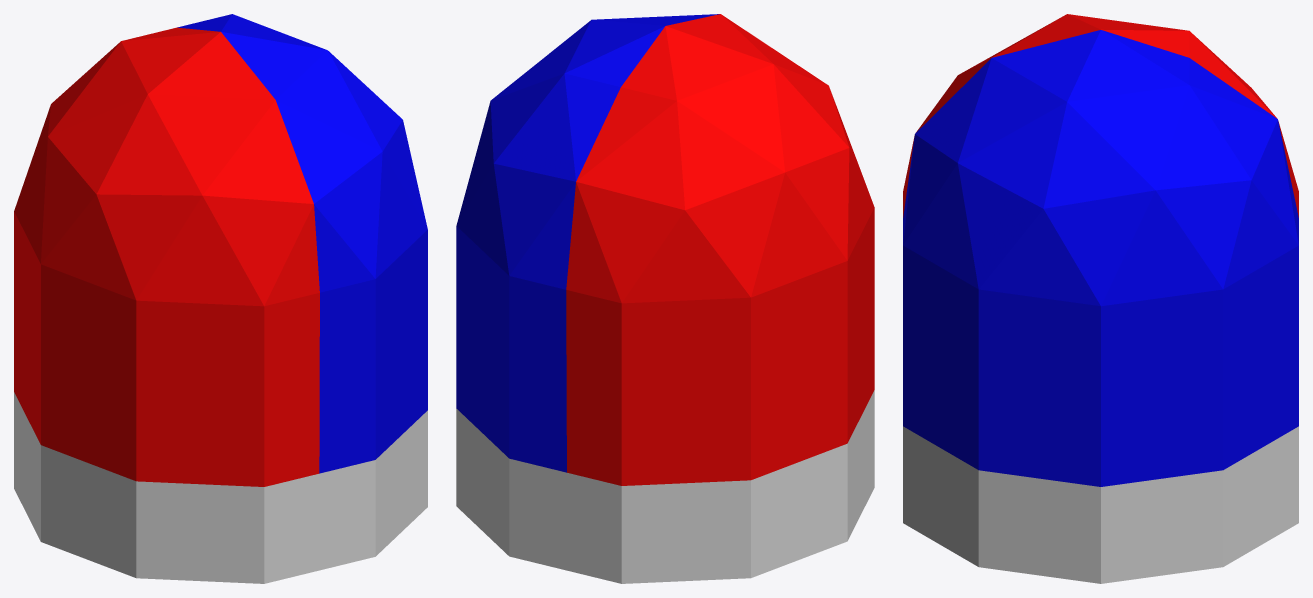
File: PoliceLight.fbx
3 renders of one model, left to right at view 1: azimuth 30°, elevation 25°; view 2: azimuth 150°, elevation 25°; view 3: azimuth 270°, elevation 25°, orthographic.
Parts seen in each view (by area): view 1: Blue; view 2: Blue; view 3: Blue.
Boxes of the visible parts, left/top/right/bottom form: Blue: left=14, top=14, right=427, bottom=583; Blue: left=456, top=14, right=874, bottom=583; Blue: left=903, top=14, right=1298, bottom=583.
Bounding box in the file's own units: 200 × 247 × 190.
